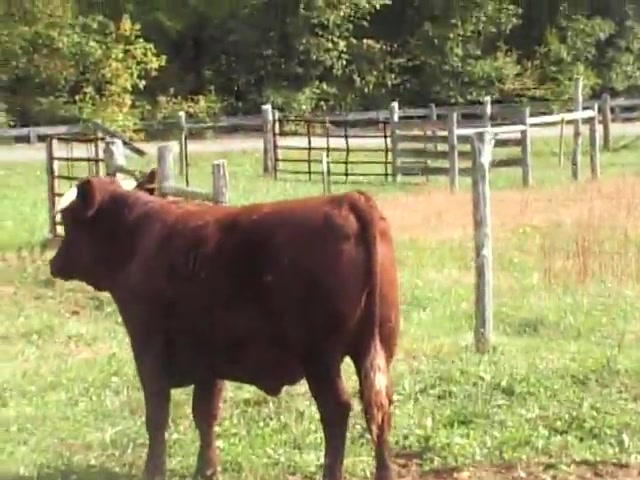cow: (48, 178, 400, 480)
